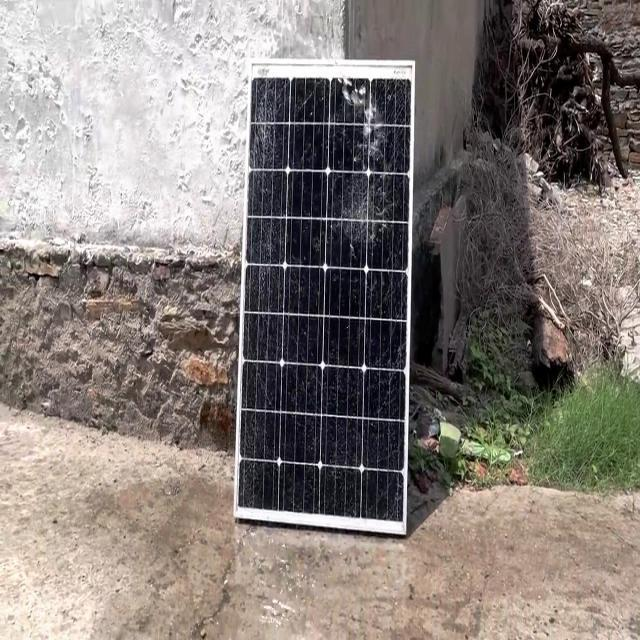faulty: (236, 53, 410, 540)
